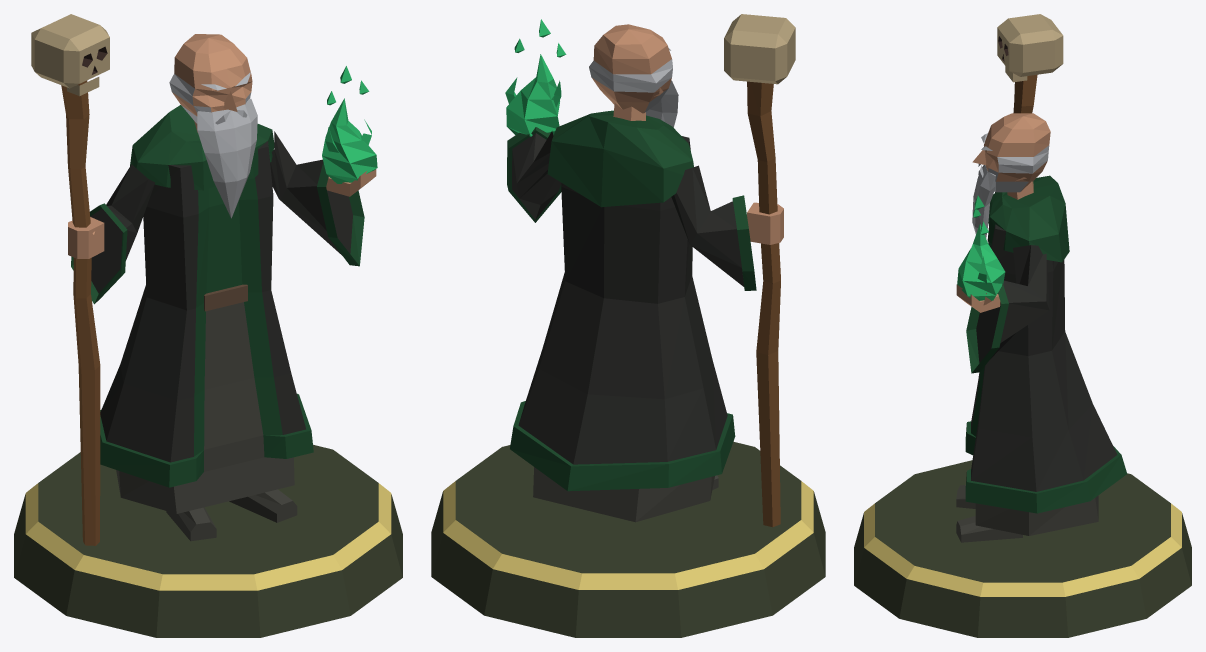
Rendered from necromancer-miniature-5bd819.glb.
3 views of the same model, side by side, from view 1: azimuth 30°, elevation 25°; view 2: azimuth 150°, elevation 25°; view 3: azimuth 270°, elevation 25° (orthographic). The views are drawn at different scales.
Parts seen in each view (by area): view 1: necromancer, head, gold, flame; view 2: necromancer, gold, head, flame; view 3: necromancer, gold, head, flame.
Part boxes in pixels (<box>): necromancer: <box>14,14,402,637</box>; head: <box>169,34,257,218</box>; gold: <box>25,483,391,590</box>; flame: <box>322,66,377,183</box>; necromancer: <box>431,14,825,637</box>; gold: <box>443,481,813,589</box>; head: <box>589,24,678,127</box>; flame: <box>505,19,566,136</box>; necromancer: <box>854,14,1191,637</box>; gold: <box>864,503,1181,596</box>; head: <box>972,113,1050,238</box>; flame: <box>957,195,1005,300</box>.
Bounding box in the file's own units: 0.025 × 0.0397 × 0.025.
